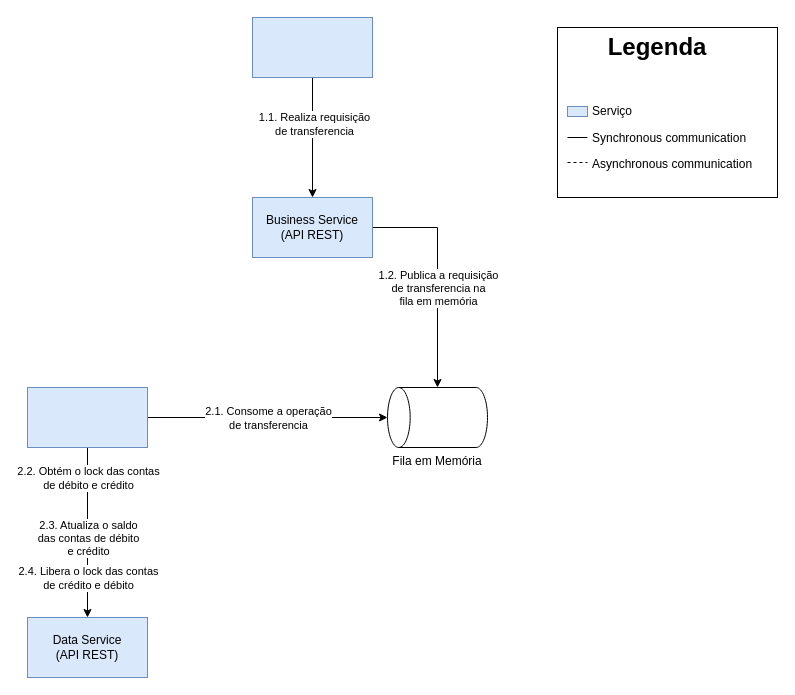
This 795x695 diagram has some shape labels left out. Each missing label, with the box of its shape:
Business Service (Queue Consumer): (26, 386, 148, 448)
Cliente: (252, 16, 372, 78)
